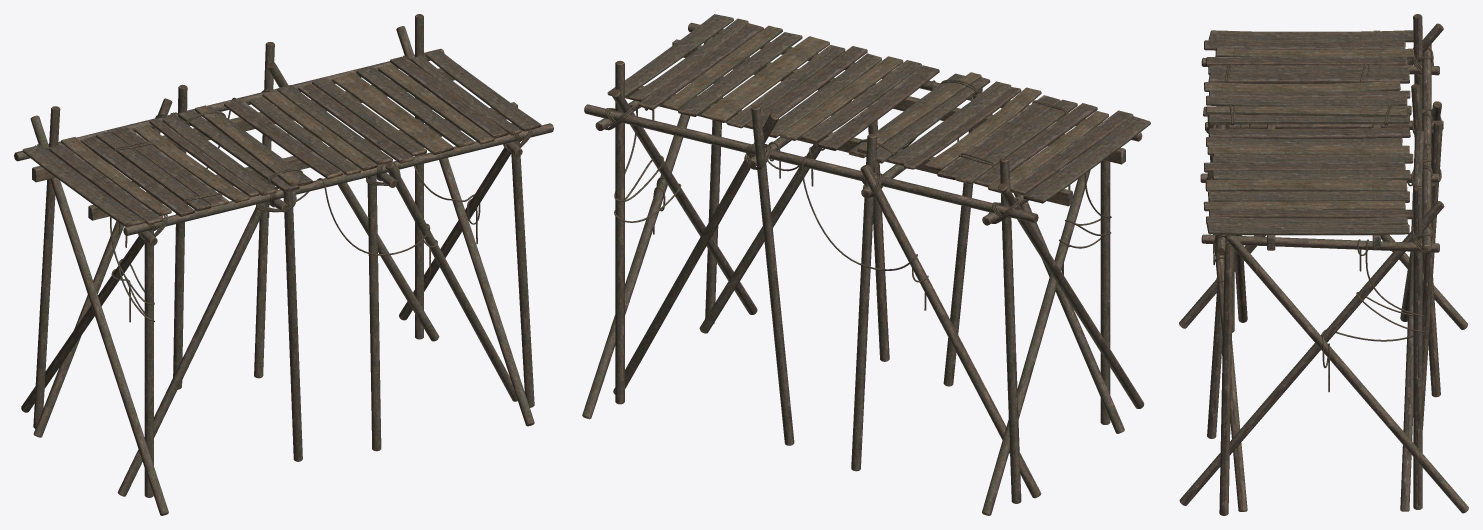
The model's file is SM_Construction_v2_5x9_01.fbx.
3 renders of one model, left to right at view 1: azimuth 30°, elevation 25°; view 2: azimuth 150°, elevation 25°; view 3: azimuth 270°, elevation 25°, orthographic. The views are drawn at different scales.
Visible parts, largest first — view 1: SM_Construction_v2_5x9_01_LOD0; view 2: SM_Construction_v2_5x9_01_LOD0; view 3: SM_Construction_v2_5x9_01_LOD0.
Boxes of the visible parts, left/top/right/bottom form: SM_Construction_v2_5x9_01_LOD0: left=14, top=14, right=553, bottom=515; SM_Construction_v2_5x9_01_LOD0: left=582, top=14, right=1150, bottom=515; SM_Construction_v2_5x9_01_LOD0: left=1179, top=14, right=1468, bottom=515.
Size of the model in its own units: 933 by 537 by 654.
Materials: 1 (1 with a texture image).
